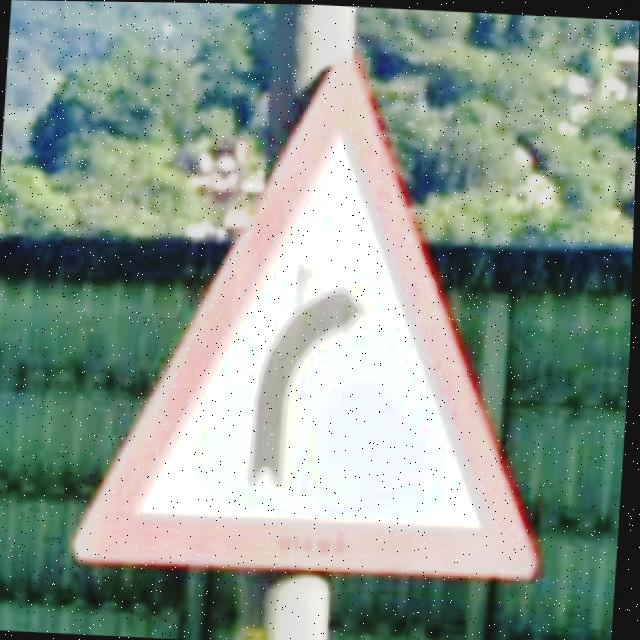rightbend: (77, 56, 542, 581)
